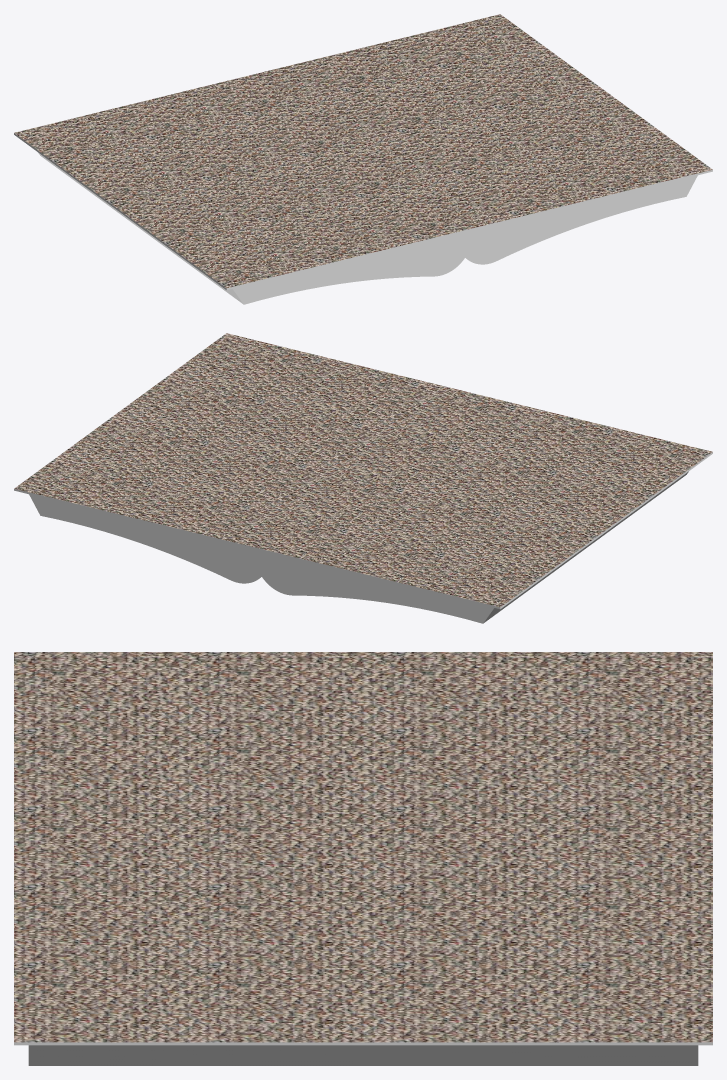
The picture shows the model from 3 angles, top to bottom: view 1: azimuth 30°, elevation 25°; view 2: azimuth 150°, elevation 25°; view 3: azimuth 270°, elevation 25°; orthographic projection. The views are drawn at different scales.
Size of the model in its own units: 0.466 by 0.0402 by 0.3526.
